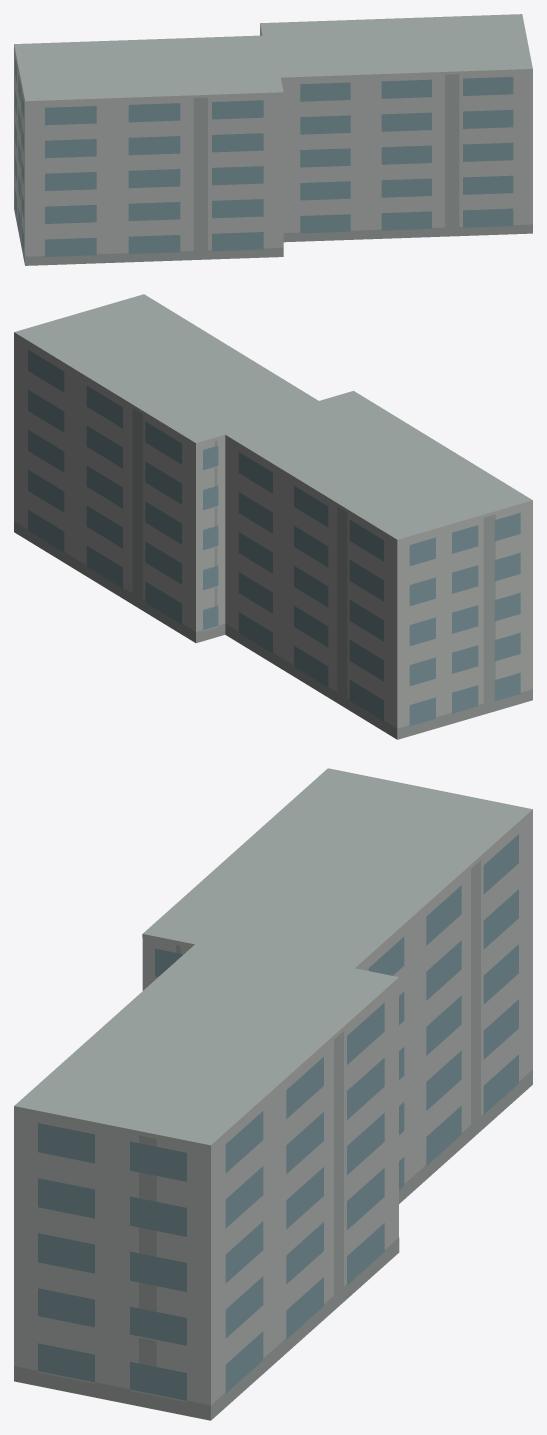
The model's file is residential-af829b24-3d8b-4727-a821-88e71c33188d.glb.
The picture shows the model from 3 angles, top to bottom: view 1: azimuth 30°, elevation 25°; view 2: azimuth 150°, elevation 25°; view 3: azimuth 270°, elevation 25°; orthographic projection. The views are drawn at different scales.
Parts seen in each view (by area): view 1: residential-af829b24-3d8b-4727-a821-88e71c33188d.tmp; view 2: residential-af829b24-3d8b-4727-a821-88e71c33188d.tmp; view 3: residential-af829b24-3d8b-4727-a821-88e71c33188d.tmp.
Boxes of the visible parts, x1,y1,x2,y2 form: residential-af829b24-3d8b-4727-a821-88e71c33188d.tmp: (14,14,532,265); residential-af829b24-3d8b-4727-a821-88e71c33188d.tmp: (14,294,532,739); residential-af829b24-3d8b-4727-a821-88e71c33188d.tmp: (14,768,532,1420).
Size of the model in its own units: 44.8 by 15.25 by 26.05.
